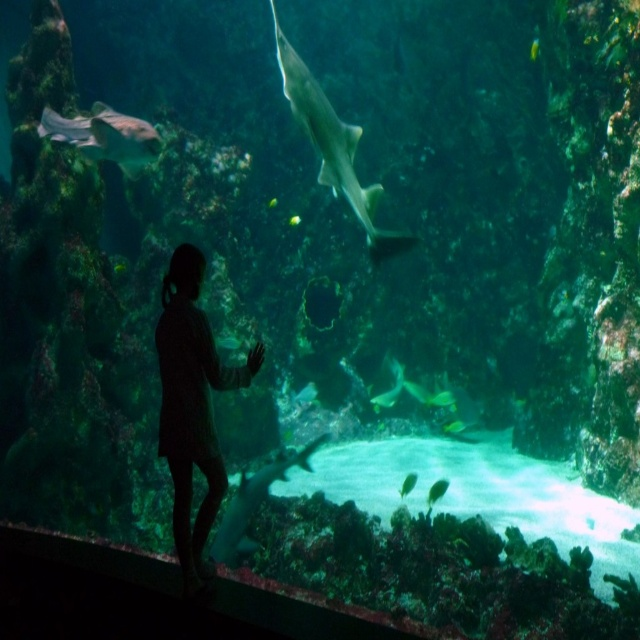Shark: (246, 18, 404, 279)
